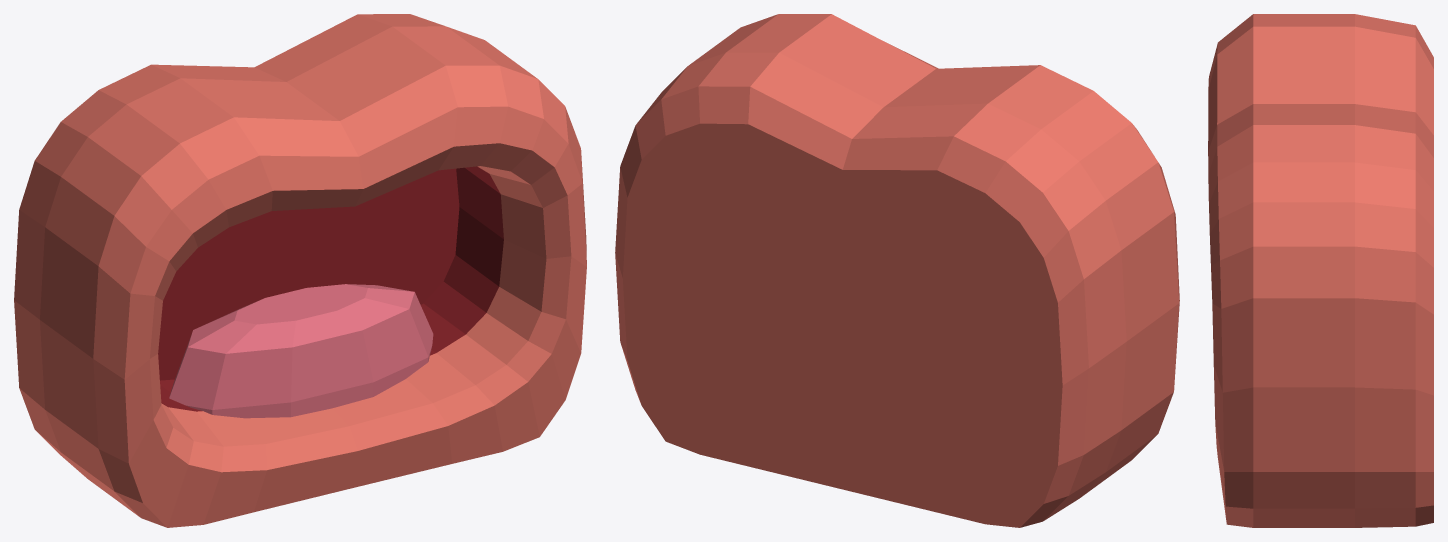
The model's file is KANJI_20_KUCHI.fbx.
The picture shows the model from 3 angles, left to right: view 1: azimuth 30°, elevation 25°; view 2: azimuth 150°, elevation 25°; view 3: azimuth 270°, elevation 25°; orthographic projection. The views are drawn at different scales.
Parts seen in each view (by area): view 1: SM_KANJI_20_Kuchi; view 2: SM_KANJI_20_Kuchi; view 3: SM_KANJI_20_Kuchi.
Part boxes in pixels (x1,y1,x2,y2): SM_KANJI_20_Kuchi: (14,14,586,527); SM_KANJI_20_Kuchi: (615,14,1179,527); SM_KANJI_20_Kuchi: (1208,14,1433,527).
Bounding box in the file's own units: 0.24 × 0.18 × 0.1.
